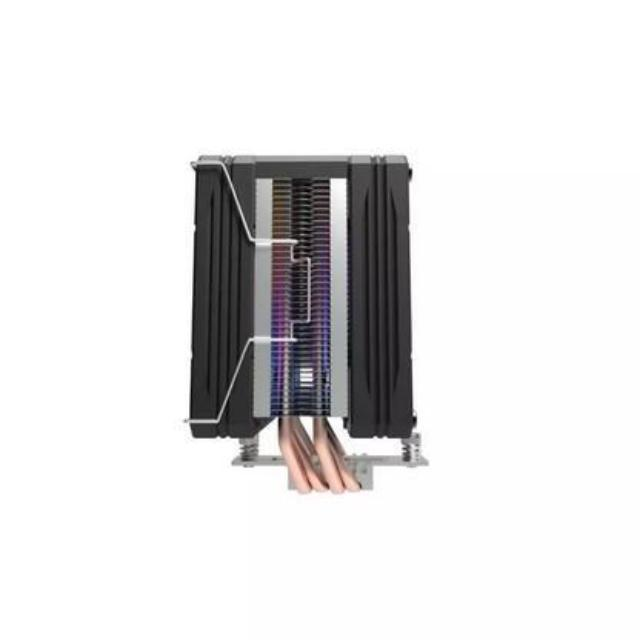CPU_Fan: (188, 154, 426, 494)
